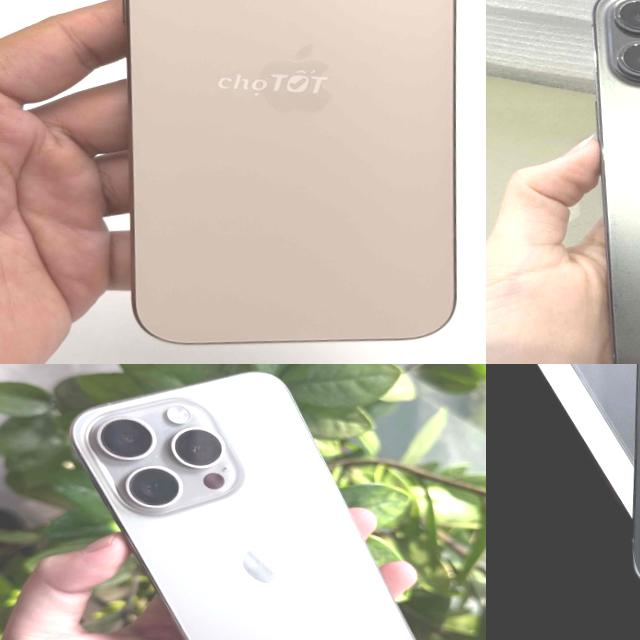gen_12_13: (567, 0, 640, 364)
gen_15: (23, 364, 453, 640)
gen_16: (76, 0, 486, 359), (604, 364, 640, 615)
scratch: (153, 451, 162, 460)
